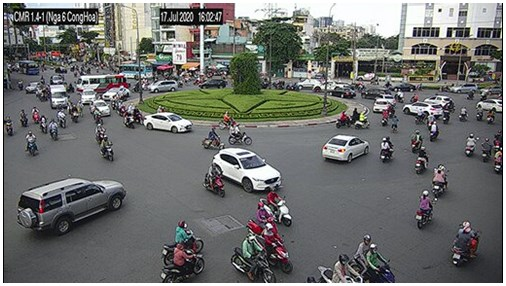xe_buyt: (75, 76, 126, 91), (118, 64, 154, 79), (17, 60, 40, 76)
xe_hoi: (17, 177, 128, 234), (211, 149, 282, 191), (323, 134, 370, 162), (143, 112, 192, 134), (402, 100, 441, 118), (423, 95, 455, 109), (101, 87, 130, 100), (475, 99, 503, 112), (90, 98, 109, 117), (360, 88, 390, 100), (148, 80, 178, 91), (295, 78, 320, 90), (328, 87, 355, 98), (452, 83, 478, 94), (373, 97, 390, 113), (80, 88, 98, 103), (200, 79, 227, 88), (387, 84, 416, 92), (25, 81, 41, 93), (479, 85, 500, 94), (381, 94, 394, 104), (50, 75, 63, 83)
xe_khach: (48, 85, 68, 107)
xe_may: (232, 234, 275, 283), (355, 235, 394, 282), (159, 243, 203, 282), (161, 217, 204, 254), (263, 222, 292, 273), (451, 219, 479, 269), (247, 202, 280, 243), (316, 255, 363, 283), (260, 188, 292, 228), (416, 189, 435, 228), (431, 164, 450, 198), (228, 122, 253, 146), (202, 126, 222, 150), (380, 135, 394, 164), (218, 110, 239, 129), (414, 146, 428, 174), (94, 121, 108, 147), (100, 135, 113, 162), (409, 128, 422, 153), (355, 111, 371, 130), (26, 132, 38, 157), (335, 110, 350, 128), (123, 109, 136, 129), (465, 133, 476, 156), (493, 148, 502, 173), (48, 118, 58, 140), (349, 106, 359, 125), (5, 116, 14, 136), (70, 104, 80, 122), (133, 107, 142, 126), (93, 111, 103, 128), (457, 107, 468, 122), (486, 107, 495, 125), (20, 107, 28, 127), (441, 108, 451, 124), (482, 138, 489, 160), (493, 129, 501, 148), (40, 113, 47, 134), (476, 103, 484, 121), (31, 106, 39, 123), (58, 109, 63, 129), (382, 109, 388, 124)
